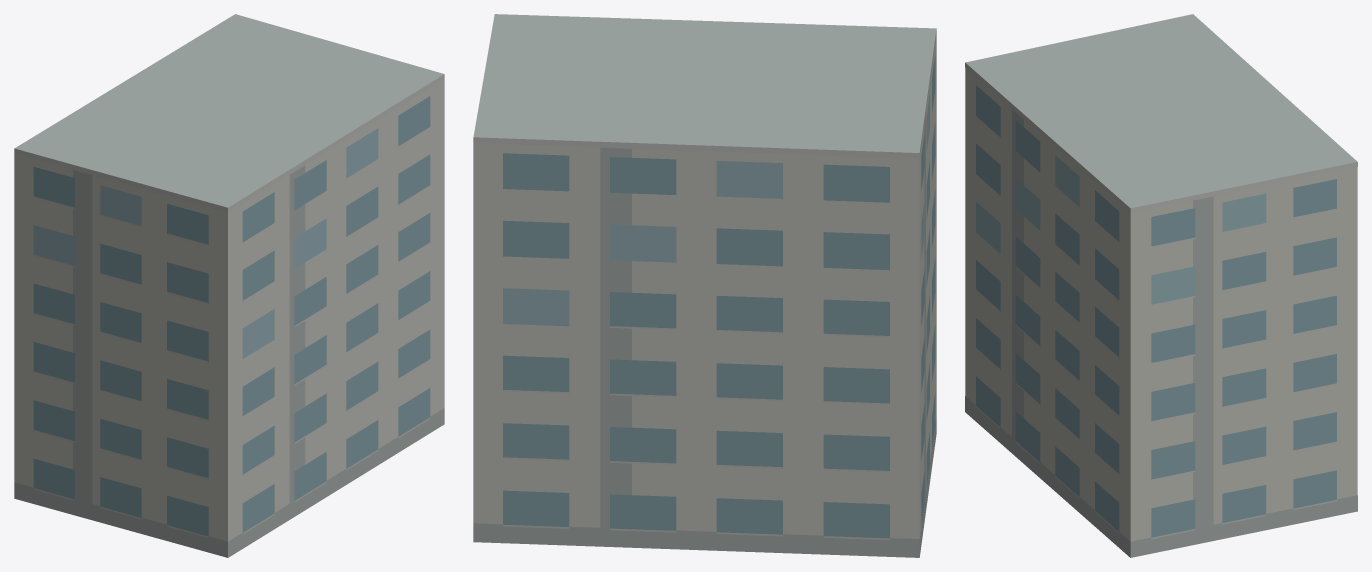
Rendered from survey-upis-32993884.glb.
3 views of the same model, side by side, from view 1: azimuth 30°, elevation 25°; view 2: azimuth 150°, elevation 25°; view 3: azimuth 270°, elevation 25° (orthographic). The views are drawn at different scales.
Visible parts, largest first — view 1: survey-upis-32993884.tmp; view 2: survey-upis-32993884.tmp; view 3: survey-upis-32993884.tmp.
Boxes of the visible parts, bbox=[...] form: survey-upis-32993884.tmp: bbox=[14, 14, 444, 557]; survey-upis-32993884.tmp: bbox=[473, 14, 936, 557]; survey-upis-32993884.tmp: bbox=[965, 14, 1357, 557].
Size of the model in its own units: 20.04 by 16.8 by 17.11.
